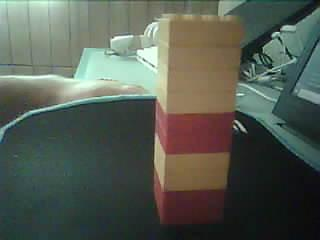lego: (155, 14, 243, 226)
